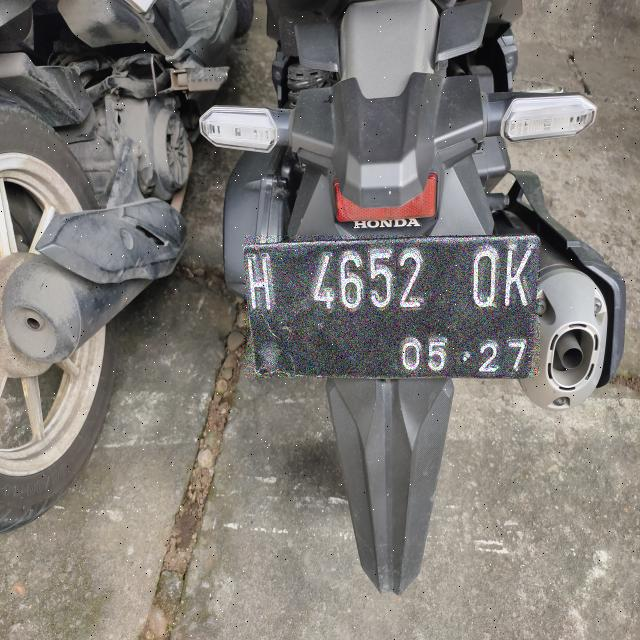plate: (245, 235, 539, 377)
